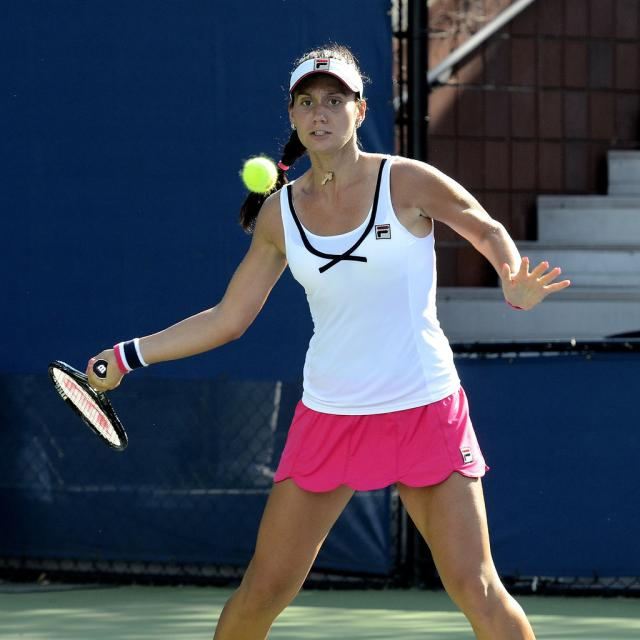Tennis ball: (241, 156, 280, 195)
